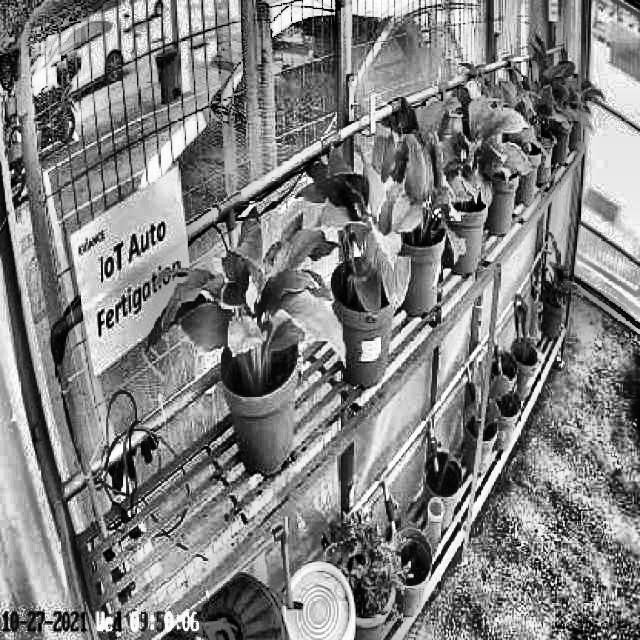plants: (143, 202, 344, 376), (302, 151, 408, 324), (367, 120, 465, 277), (424, 81, 530, 210)
